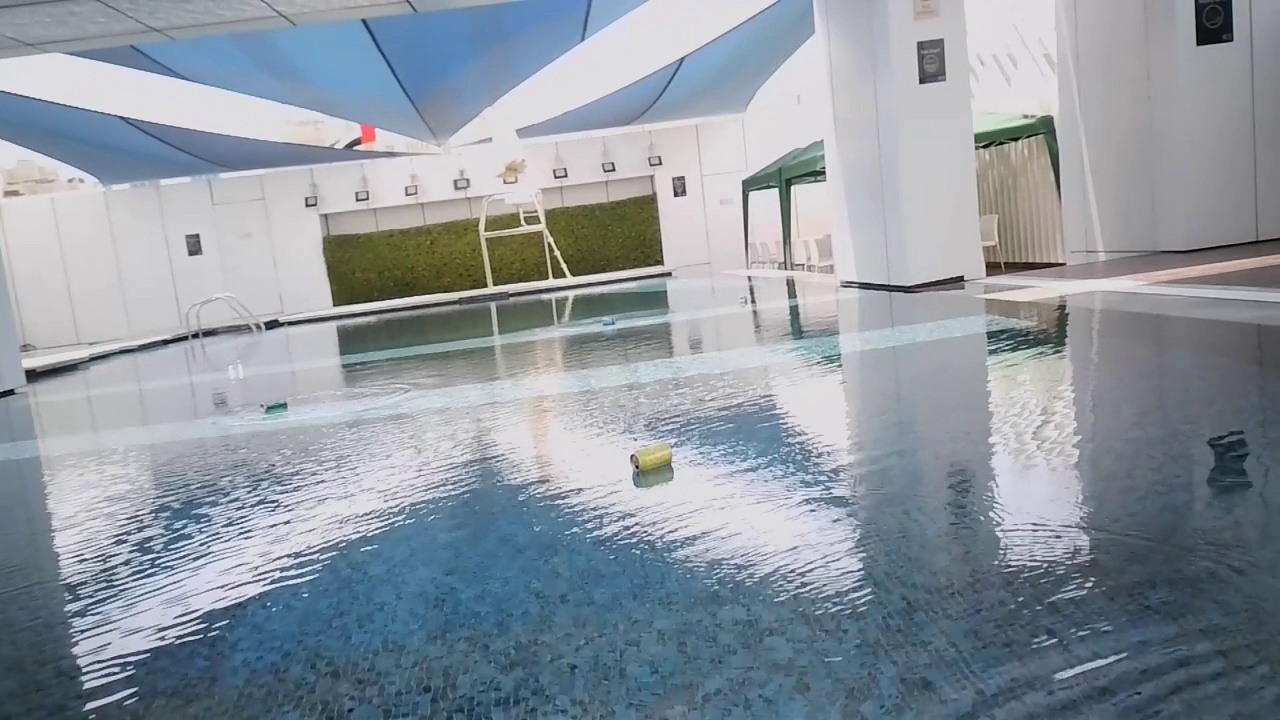debris: (623, 435, 675, 478), (255, 393, 288, 416), (598, 311, 614, 327), (735, 292, 748, 306)
